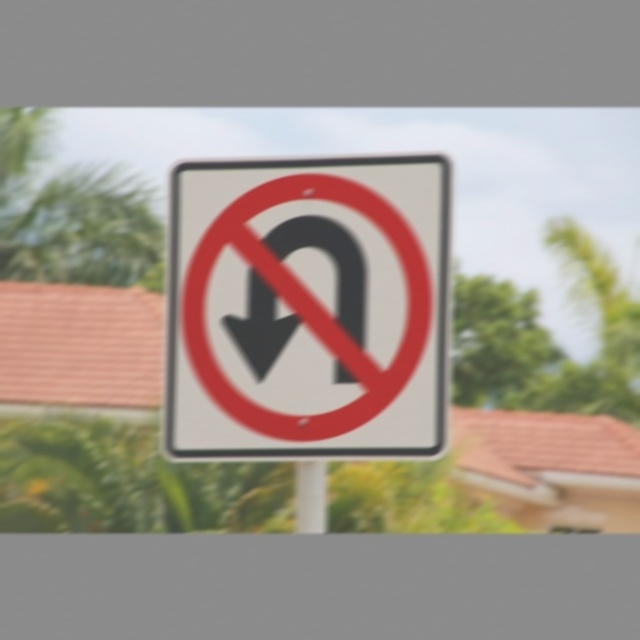U_Turn_Prohibited: (181, 166, 441, 446)
